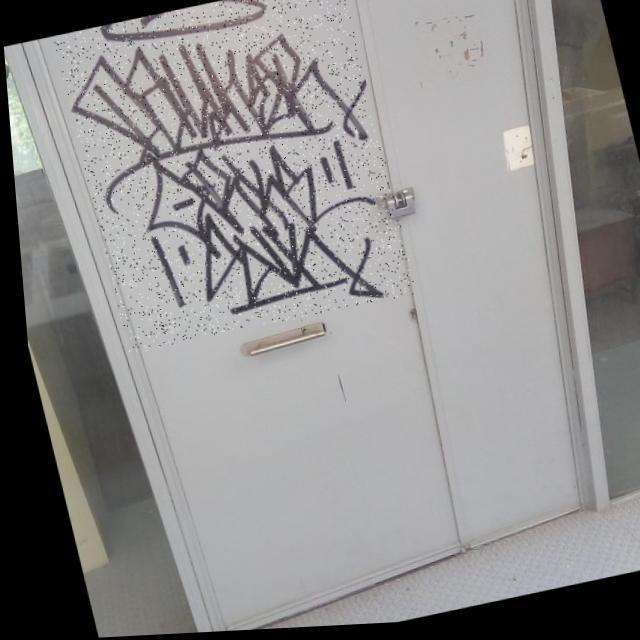-: (50, 0, 415, 357)
